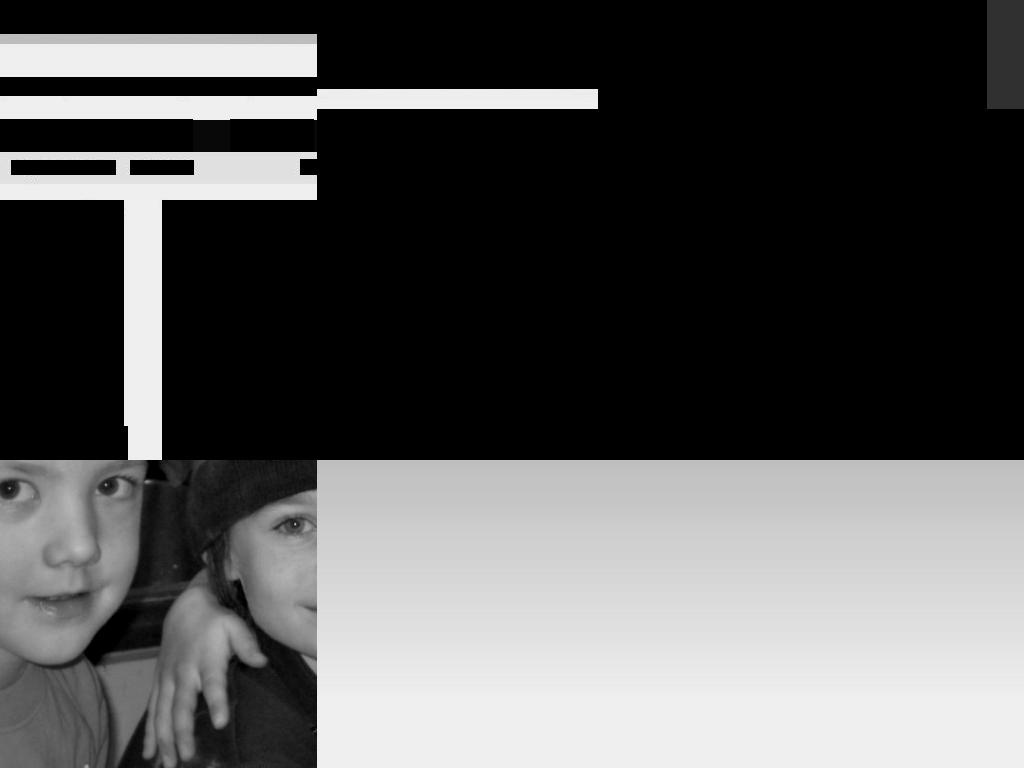button: (317, 0, 871, 89), (598, 256, 704, 296), (712, 256, 818, 296), (826, 256, 932, 296), (940, 256, 1024, 296), (92, 119, 193, 152), (230, 119, 315, 152), (19, 119, 93, 152)
heading: (0, 200, 124, 460), (598, 19, 926, 72), (598, 0, 952, 24), (693, 67, 837, 120), (0, 77, 317, 96), (598, 67, 683, 120)
iframe: (162, 200, 317, 460)
image: (317, 109, 1024, 460), (655, 0, 987, 460), (317, 0, 871, 89), (789, 141, 951, 293)
link: (366, 249, 568, 266), (443, 427, 583, 444), (317, 427, 431, 444), (11, 160, 116, 175), (130, 160, 194, 175), (317, 249, 354, 266), (300, 159, 317, 175)
text: (317, 292, 820, 423), (317, 124, 820, 197), (598, 158, 1010, 212), (317, 218, 820, 245), (733, 266, 797, 286), (620, 266, 682, 286), (849, 266, 909, 286), (965, 266, 1021, 286), (14, 402, 67, 417), (354, 249, 366, 266), (431, 427, 443, 444), (4, 402, 15, 417)
